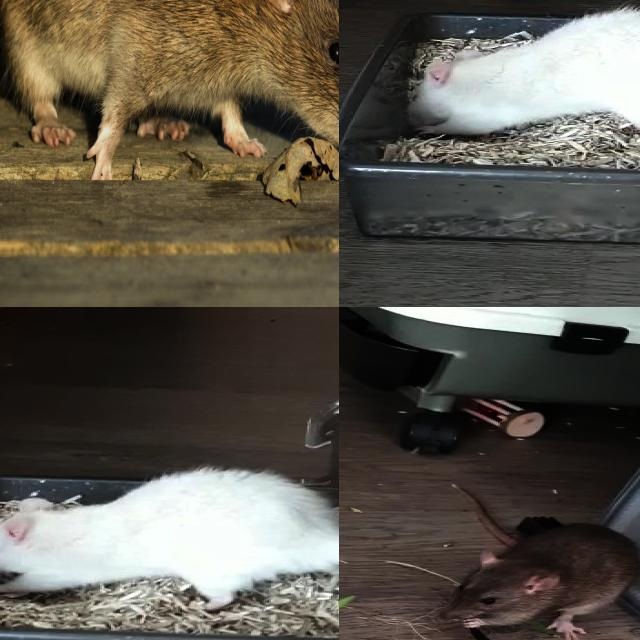rat: (0, 0, 339, 164), (0, 468, 339, 612), (405, 9, 640, 141), (434, 519, 640, 640)
